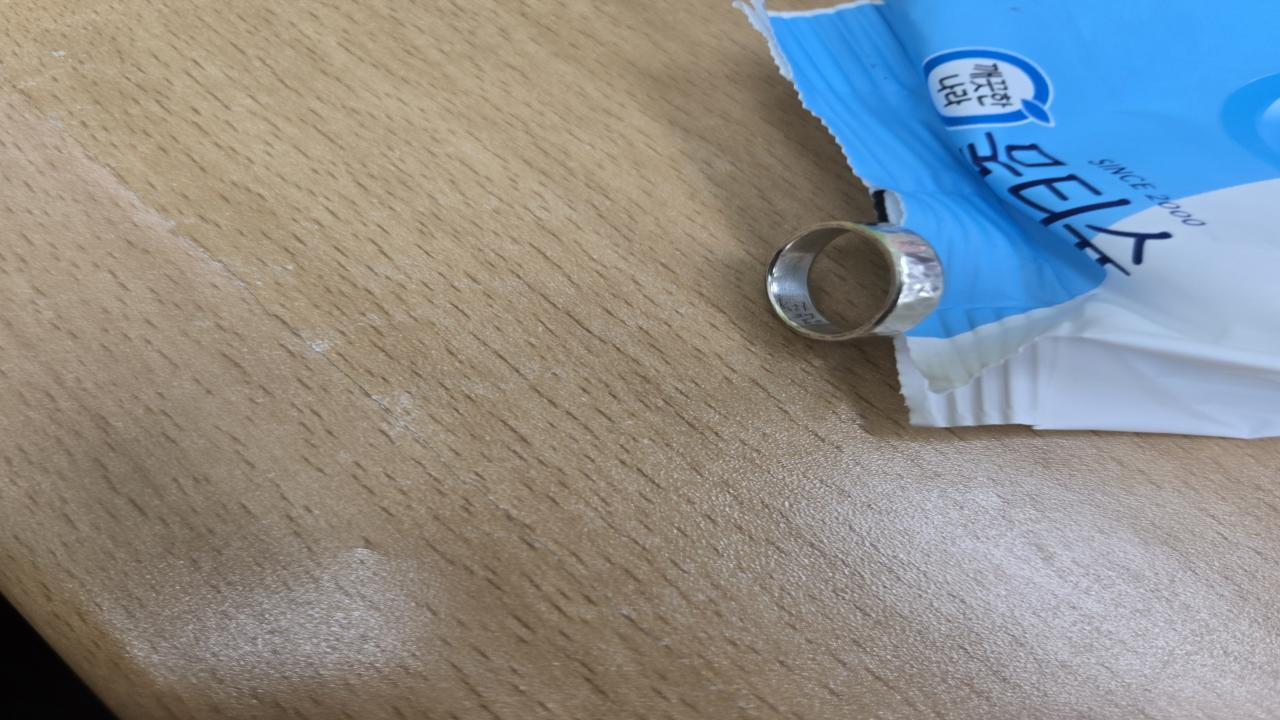ring: (762, 222, 946, 343)
